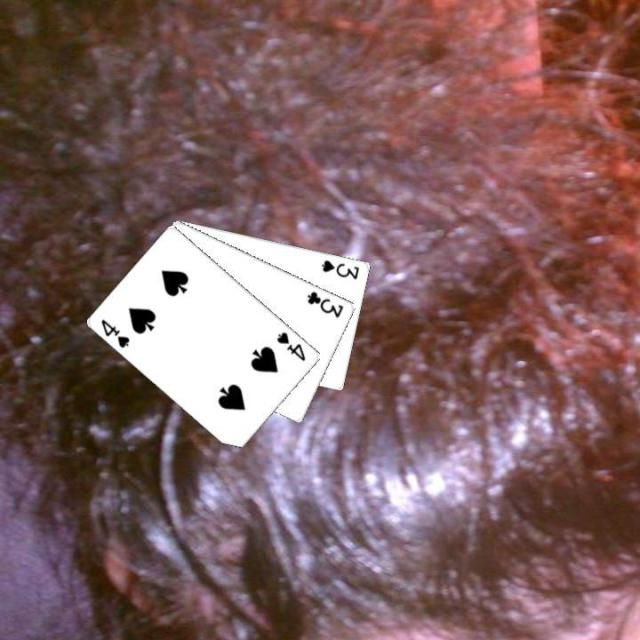3C: (303, 287, 346, 319)
3S: (318, 256, 361, 281)
4S: (273, 328, 307, 363), (98, 316, 132, 350)
